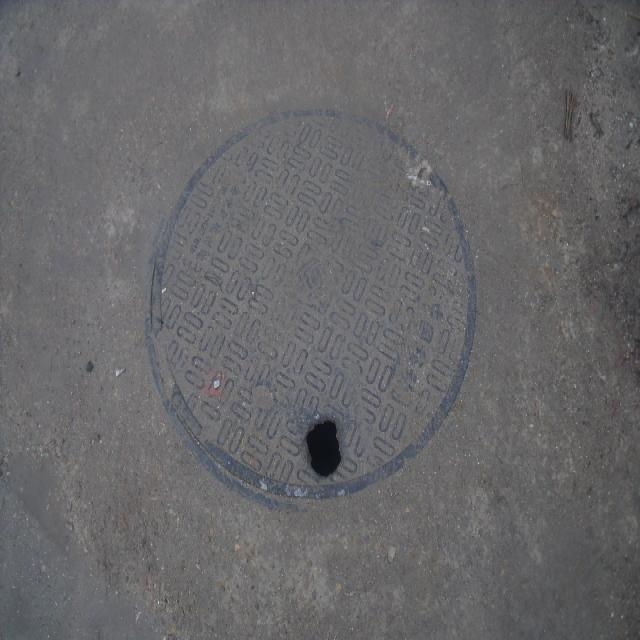Faulty: (147, 104, 479, 515)
